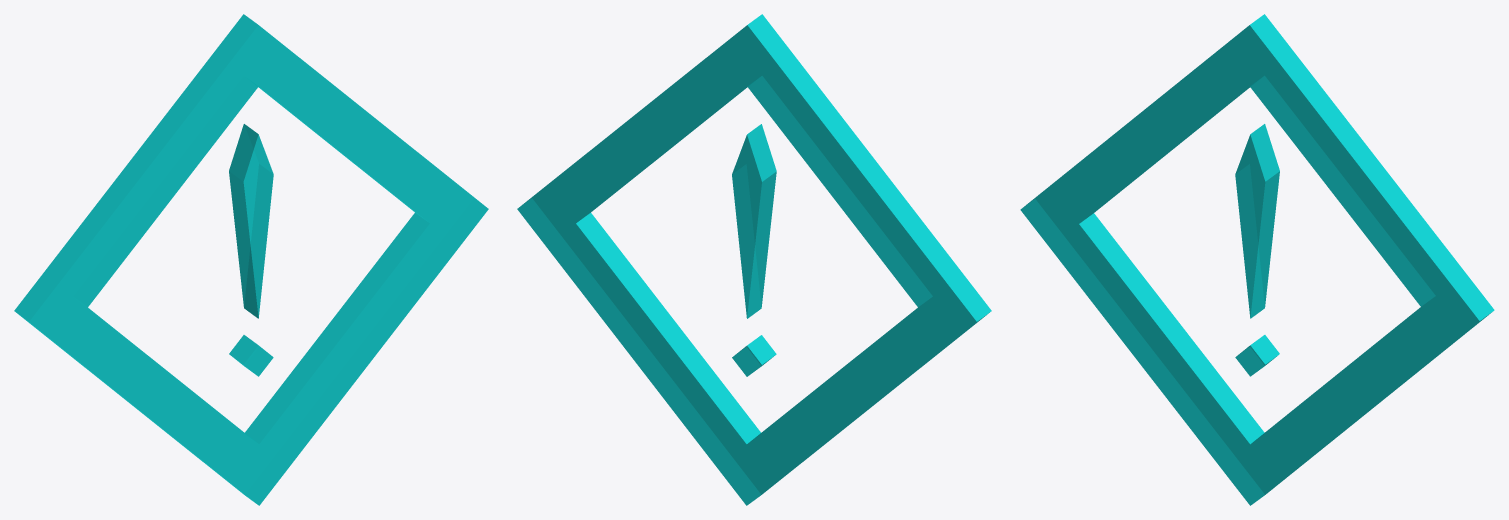
File: notice.glb
The picture shows the model from 3 angles, left to right: view 1: azimuth 30°, elevation 25°; view 2: azimuth 150°, elevation 25°; view 3: azimuth 330°, elevation 25°; orthographic projection.
Visible parts, largest first — view 1: Plane, Plane.002, Plane.001; view 2: Plane, Plane.002, Plane.001; view 3: Plane, Plane.002, Plane.001.
Part boxes in pixels (x1,y1,x2,y2): Plane: (14,14,488,505); Plane.002: (229,124,273,318); Plane.001: (229,335,273,376); Plane: (517,14,991,505); Plane.002: (732,124,776,318); Plane.001: (732,335,776,376); Plane: (1020,14,1494,505); Plane.002: (1235,124,1279,318); Plane.001: (1235,335,1279,376).
Size of the model in its own units: 2.83 by 2.83 by 0.16.
